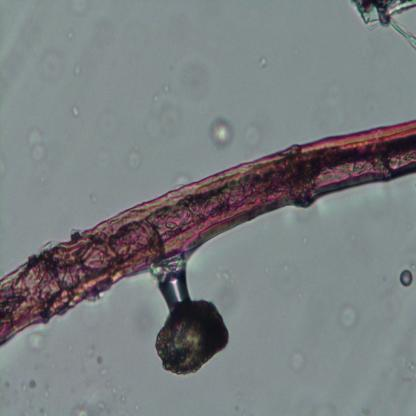Background material: (157, 296, 231, 376), (310, 84, 352, 135), (177, 55, 217, 95), (140, 106, 178, 142), (388, 348, 416, 386), (208, 114, 236, 150), (212, 282, 242, 312), (280, 345, 309, 373), (39, 46, 63, 79), (28, 127, 47, 164), (120, 150, 145, 175), (73, 398, 107, 416), (240, 125, 266, 148), (210, 262, 234, 283), (67, 0, 94, 18), (342, 305, 358, 329), (395, 269, 414, 287), (28, 332, 44, 353), (66, 99, 82, 119), (72, 58, 83, 76), (104, 379, 115, 396), (18, 376, 28, 394), (159, 84, 175, 95), (93, 354, 104, 369), (85, 345, 97, 358), (259, 56, 268, 70), (119, 390, 128, 403), (28, 377, 38, 388), (65, 29, 74, 41), (150, 93, 160, 103), (359, 407, 370, 416)
Cellulose filter fibre: (350, 1, 416, 53)
Cotton: (0, 114, 416, 352)
